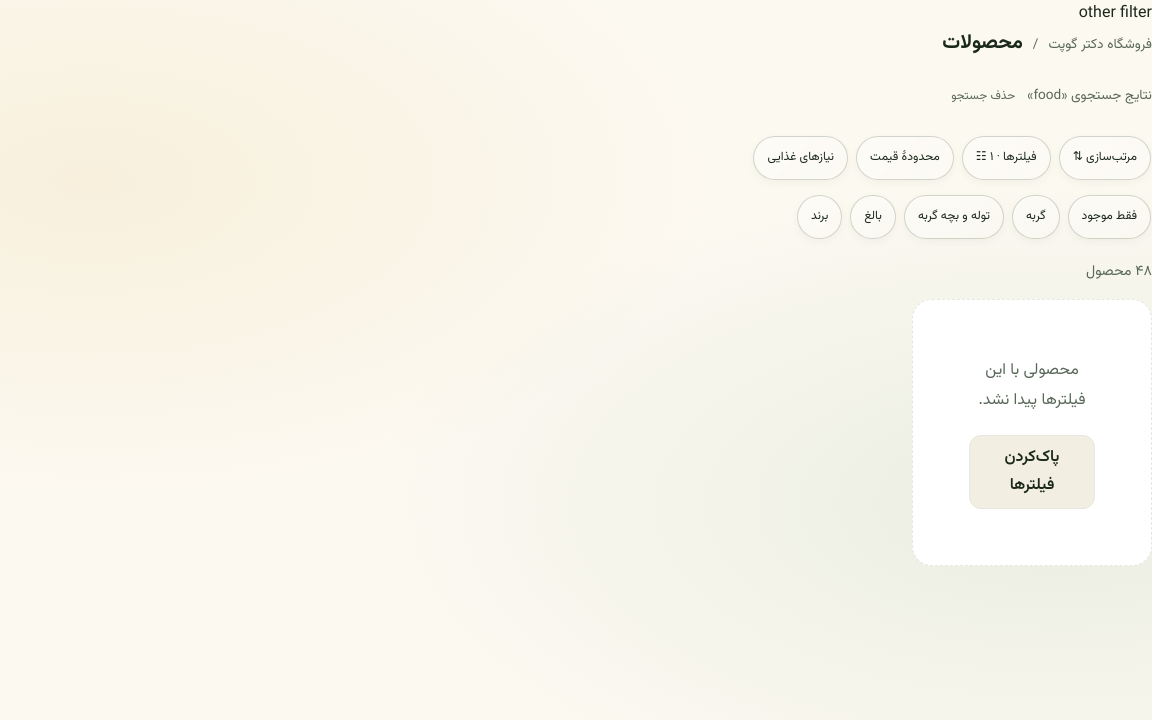
catalog filters › provides two swipe rails on mobile and an accessible filter drawer, without plus/minus controls
The width and height of the screenshot is (1152, 720).
expect the number of elements with class "catalog-chip-rail" is 2: met, box [753,136,1151,180]; [797,195,1151,239]
Click the button "فیلترها · ۱ ☷" at (1006,158), box [962,136,1051,180]
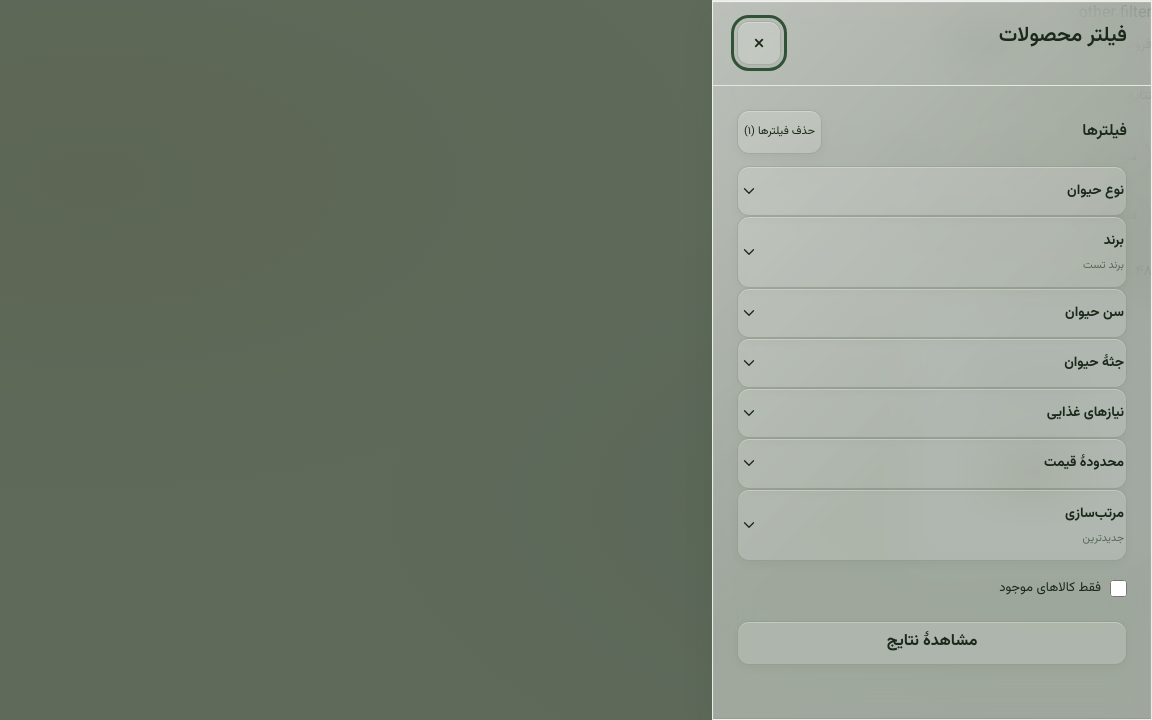
expect the dialog is shown: met, box [712,0,1151,719]
Click the button "نوع حیوان" at (1096,190), box [737,166,1127,216]
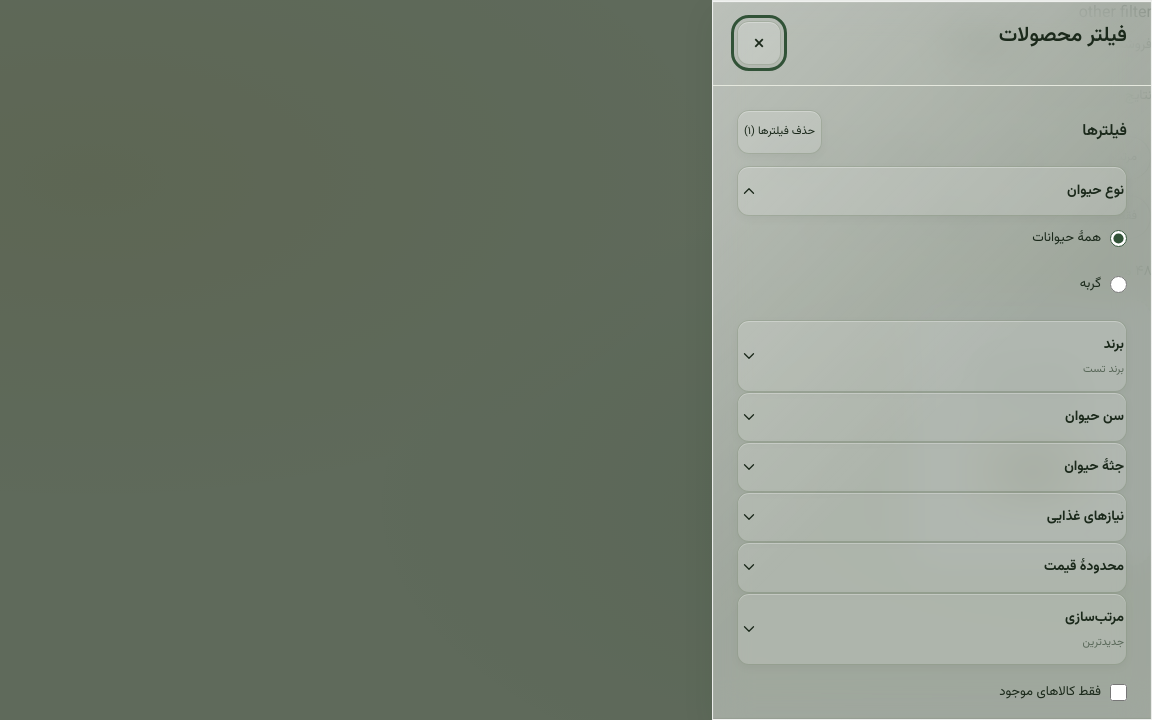
Click the radio button labelled "گربه" at (1118,284), box [1110,276,1127,293]
(page scrolled)
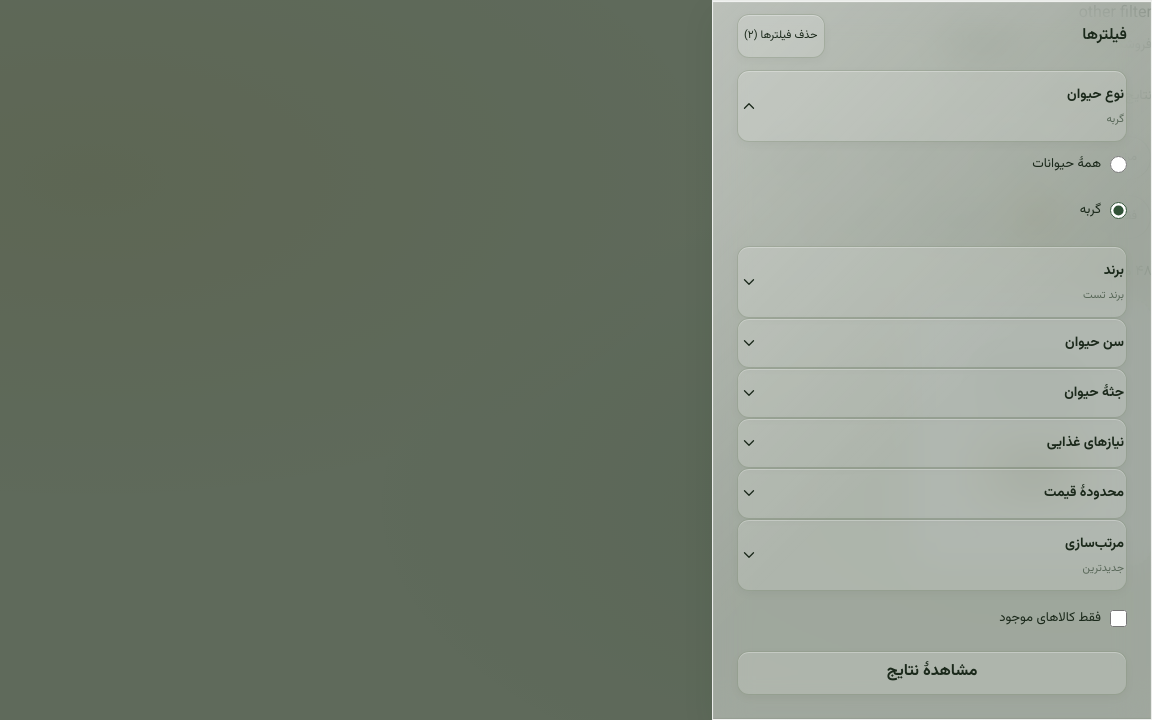
Click the button "مشاهدهٔ نتایج" at (932,673), box [737,651,1127,695]
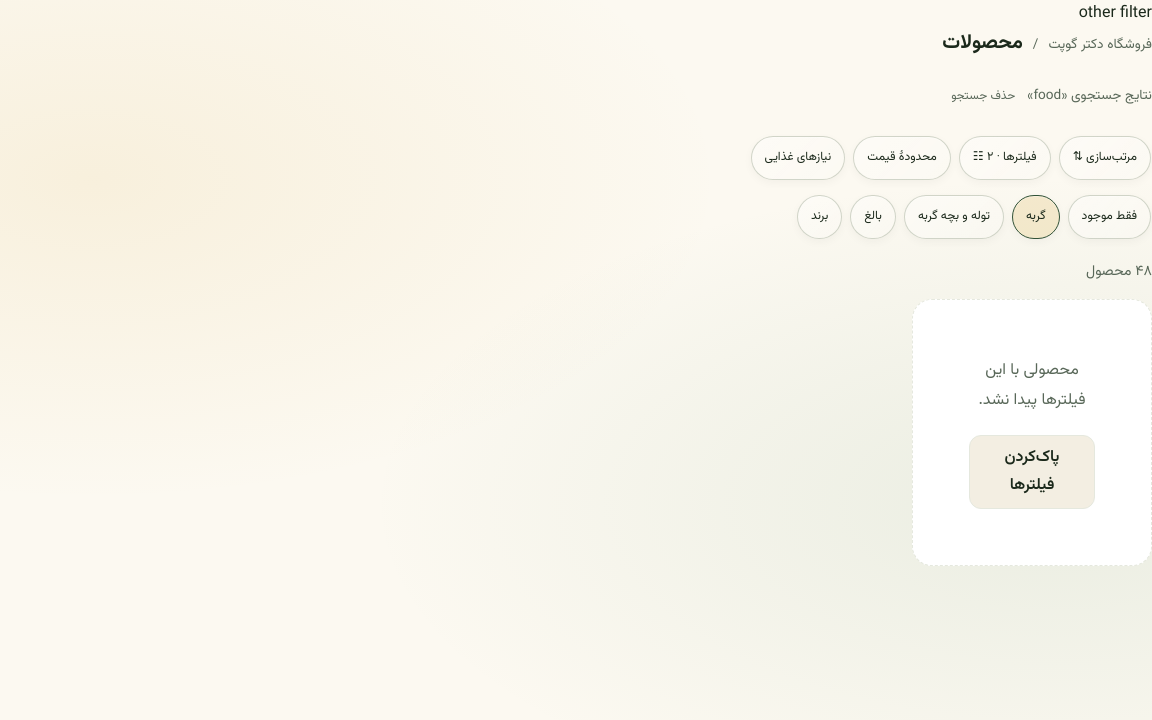
expect the dialog is gone: met
